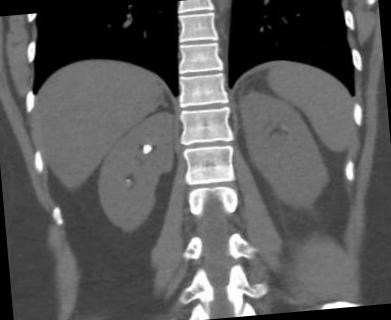Tas_Var: (142, 140, 155, 157), (125, 177, 130, 182)
